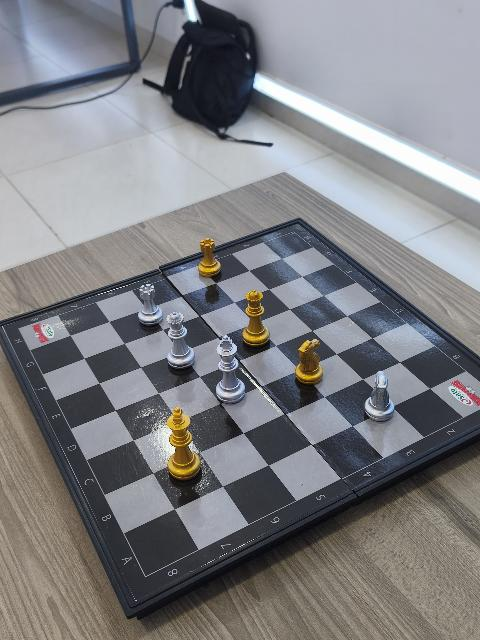black_king: (166, 408, 202, 482)
black_knight: (294, 338, 325, 386)
black_queen: (244, 287, 269, 345)
black_rook: (197, 237, 223, 281)
white_king: (215, 335, 246, 405)
white_knight: (364, 369, 395, 423)
white_queen: (166, 312, 194, 371)
white_rook: (136, 281, 165, 323)
